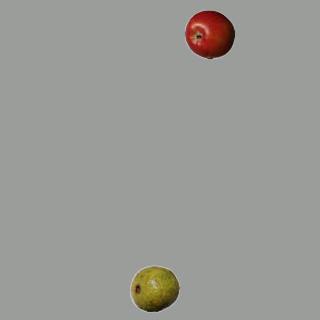Apple Braeburn: (184, 9, 234, 59)
Guava: (129, 263, 179, 313)
